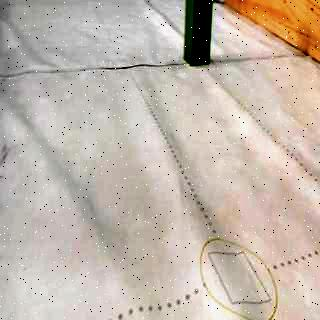greenbox: (183, 0, 215, 67)
